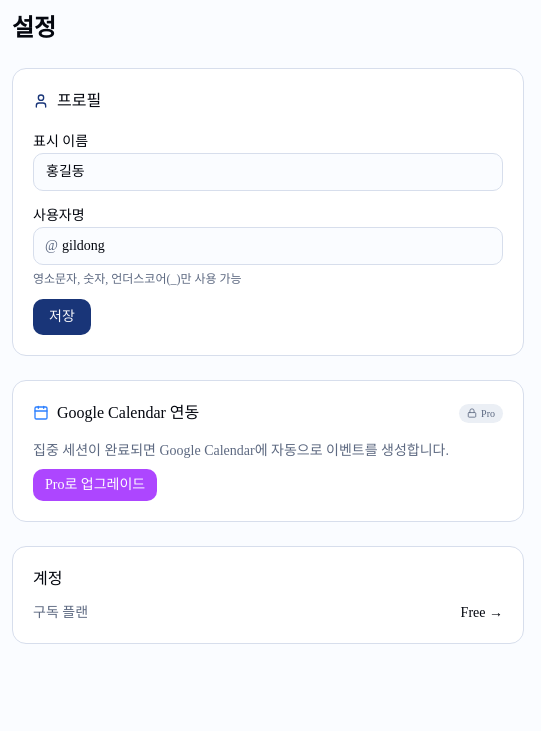
Test case: SettingsClient — 프로필 섹션 › 저장 성공 시 성공 toast를 표시한다
Click the button "저장" at (62,317), box [33,299,91,335]
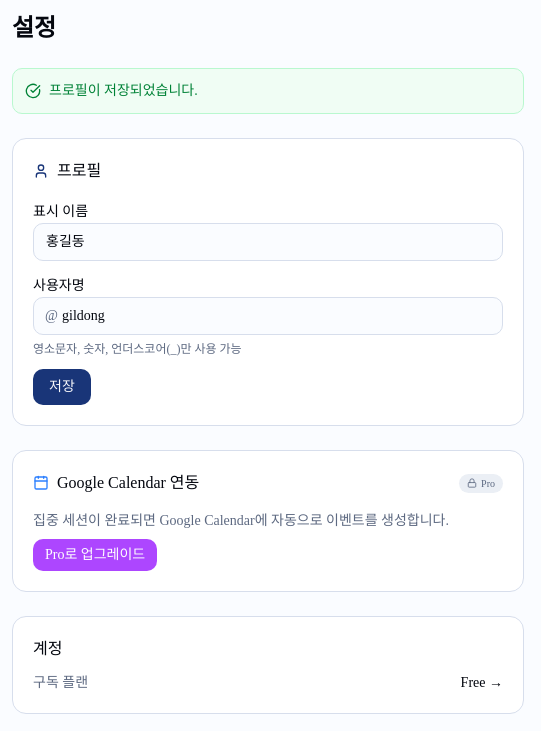
Result: the text "프로필이 저장되었습니다." is shown at [12,68,524,114]
